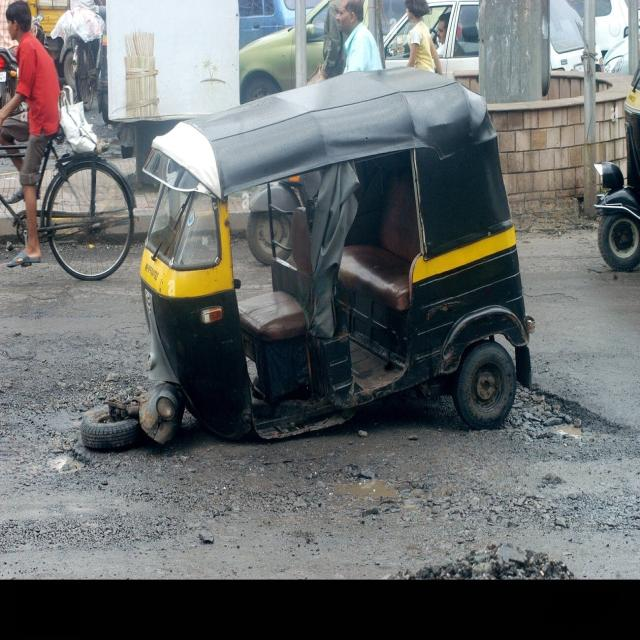accident: (81, 68, 530, 449)
